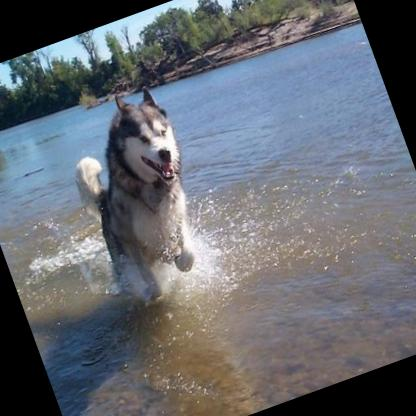malamute: (50, 80, 226, 312)
